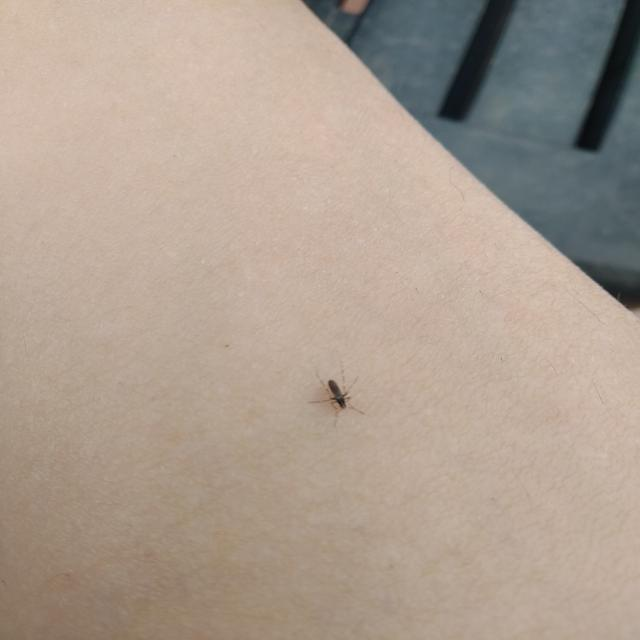albopictus: (304, 364, 370, 426)
